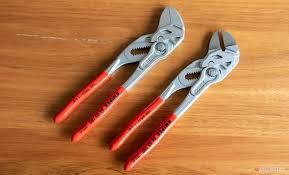pliers: (51, 5, 185, 143), (107, 30, 239, 170)
